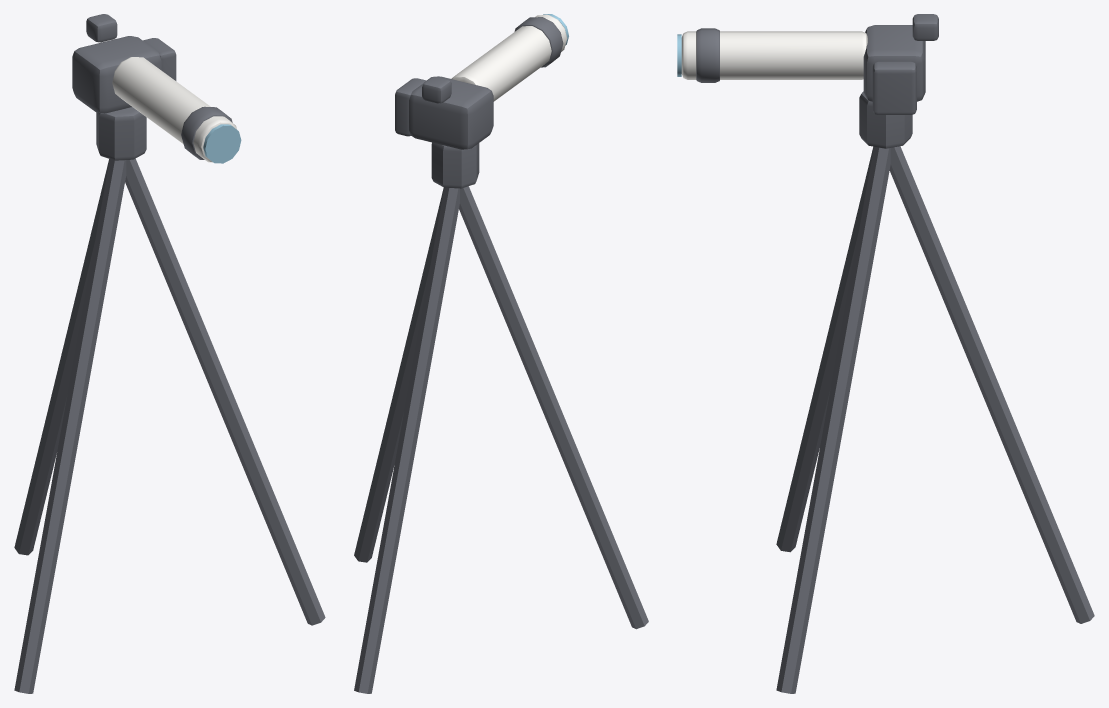
The model's file is CameraTripod.fbx.
The picture shows the model from 3 angles, left to right: view 1: azimuth 30°, elevation 25°; view 2: azimuth 150°, elevation 25°; view 3: azimuth 270°, elevation 25°; orthographic projection. The views are drawn at different scales.
Parts seen in each view (by area): view 1: CameraTripod; view 2: CameraTripod; view 3: CameraTripod.
Boxes of the visible parts, box(x1,y1,x2,y2) form: CameraTripod: box(14, 14, 325, 693); CameraTripod: box(354, 14, 648, 693); CameraTripod: box(677, 14, 1094, 693).
Bounding box in the file's own units: 0.8163 × 1.5 × 0.9406.
